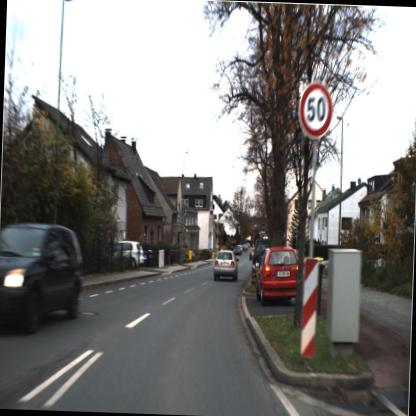prohibitory: (296, 78, 338, 142)
